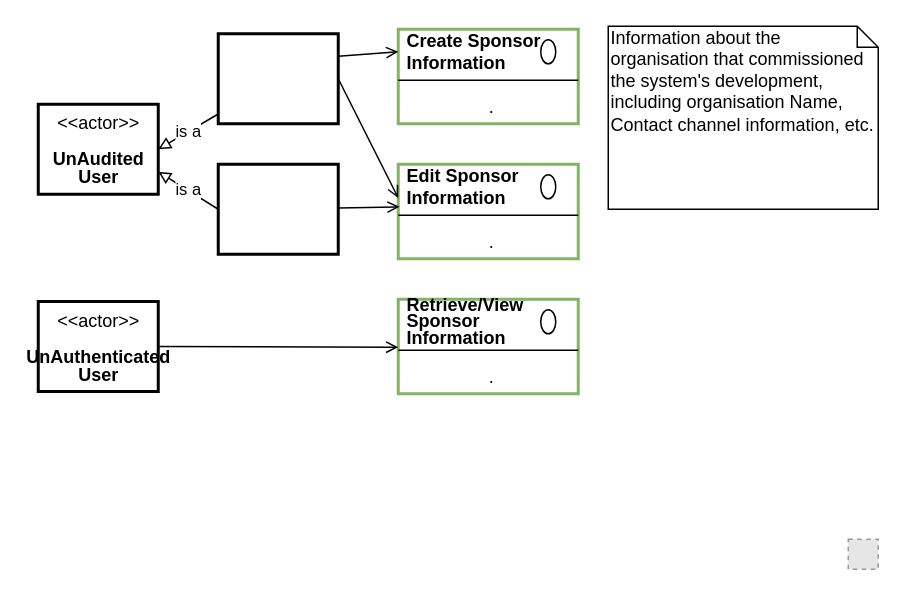
Some shapes in this 905 by 596 pixel diagram are drawn without their labels. Grey dashed boxes stand in for pictures. Here are the shapes that lost their labels. From the top down, the centre of each, then its label:
pixel 277 78: <<actor>> Developer
pixel 277 208: <<actor>> Deployment Daemon
